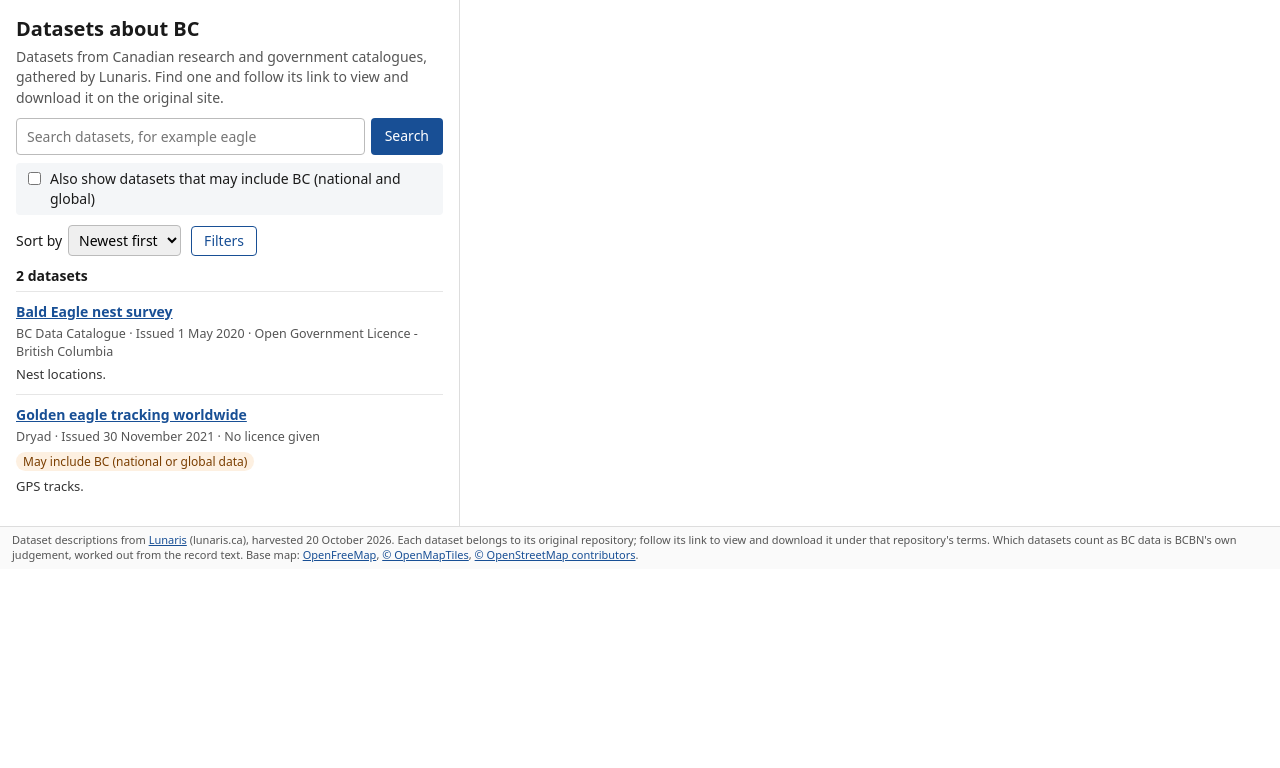
Scenario: the Datasets page › keeps the panel open and applies nothing while a year or organism is wrong
Click the button "Filters": (224, 241) [191, 226, 257, 256]
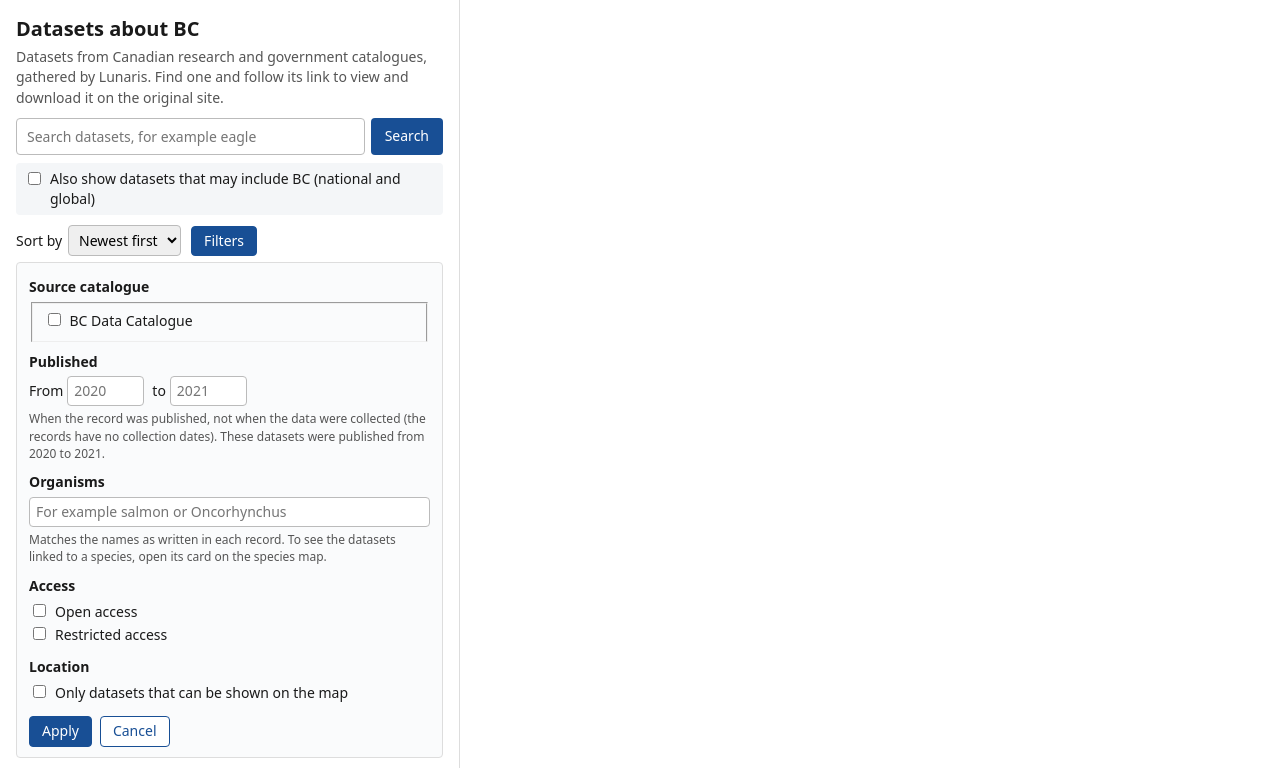
In the field labelled "From": (106, 391) [67, 376, 144, 406], type "2021"
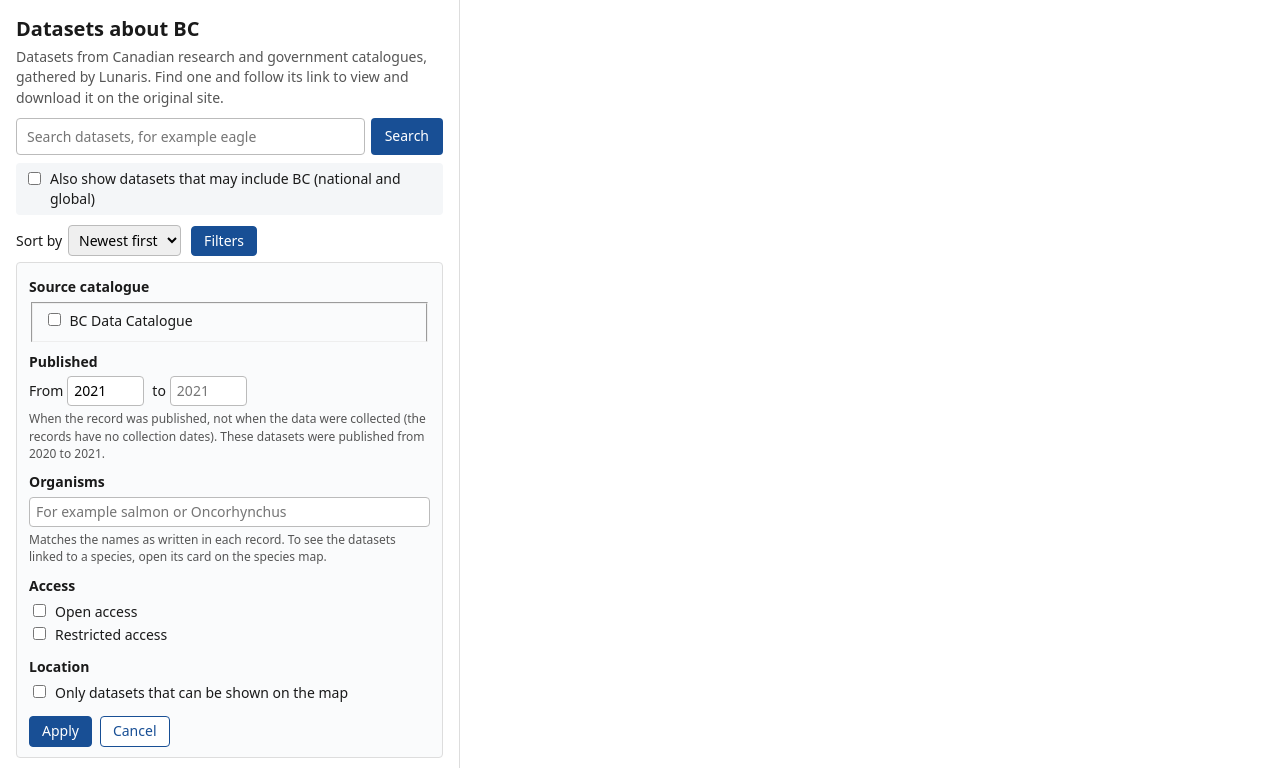
In the field labelled "to": (208, 391) [170, 376, 247, 406], type "2015"
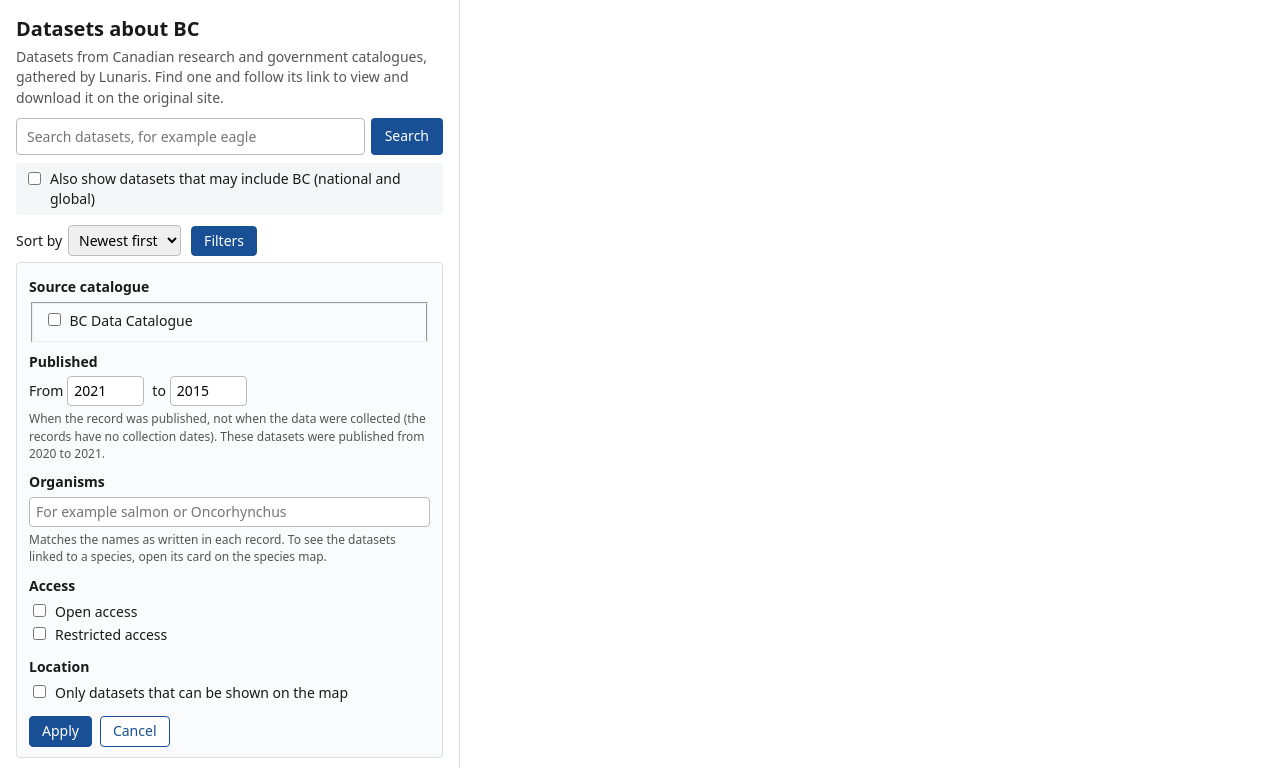
In the field named "Organism name": (230, 512) [29, 497, 430, 527], type "e"
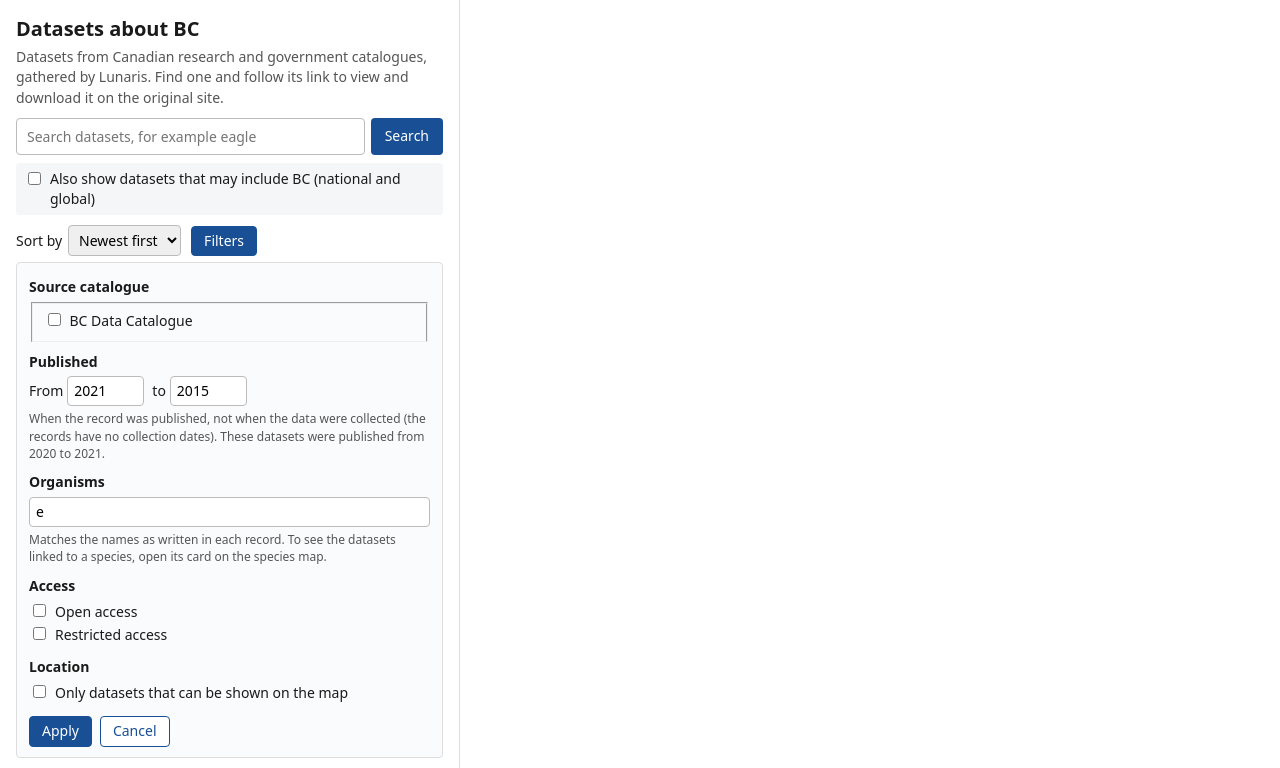
Click the button "Apply": (60, 731) [29, 716, 92, 747]
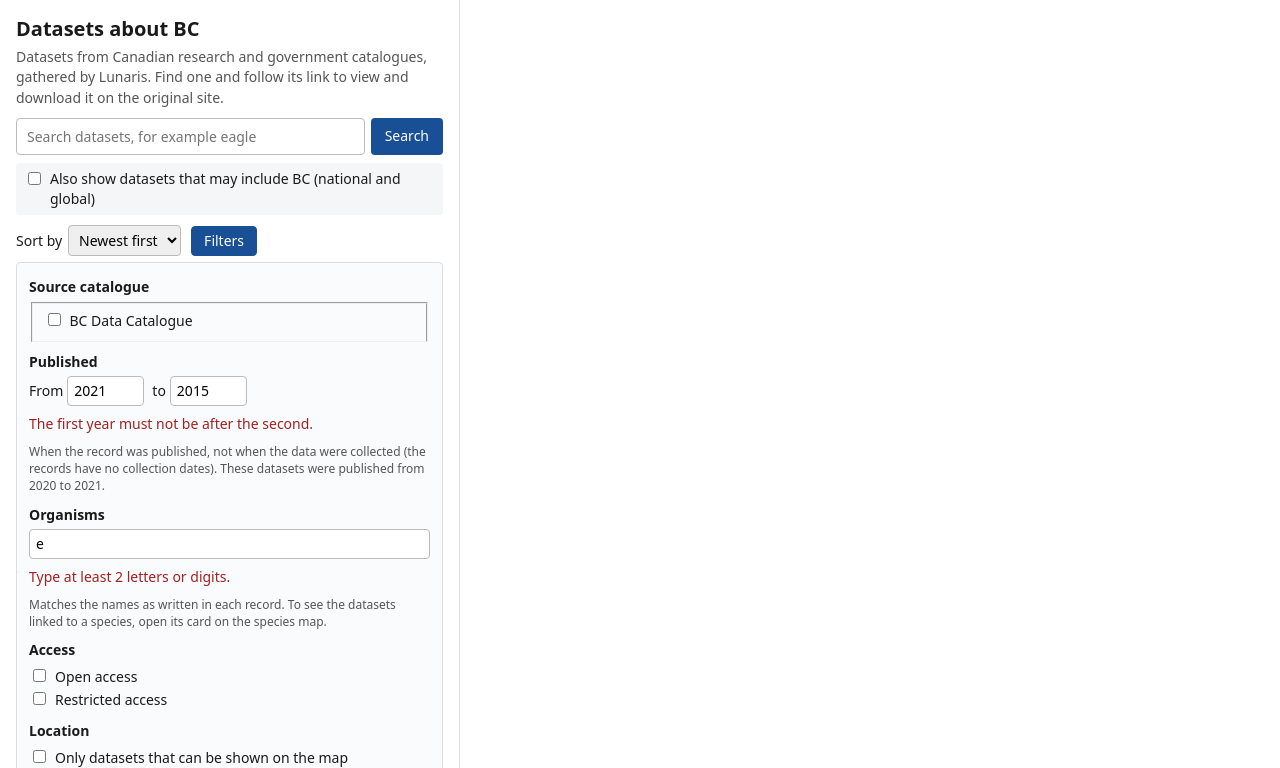
Now the text "The first year must not be after the second." is shown, box [29, 414, 313, 433]
Now the text "Type at least 2 letters or digits." is shown, box [29, 567, 230, 586]
